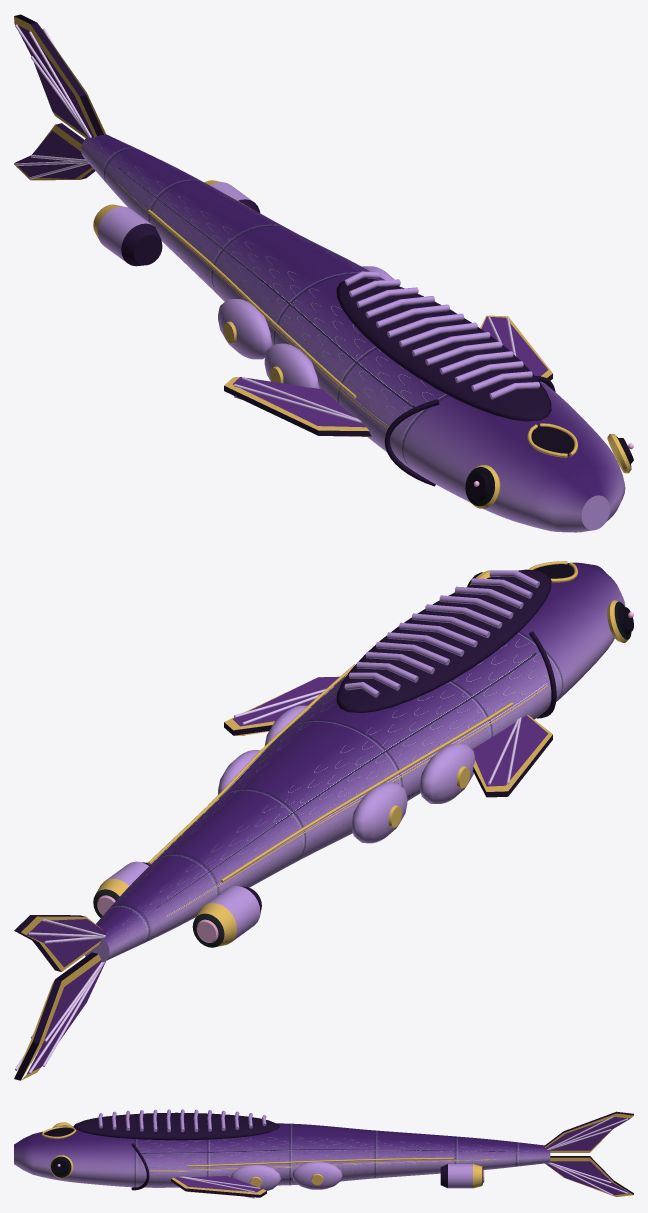
The picture shows the model from 3 angles, top to bottom: view 1: azimuth 30°, elevation 25°; view 2: azimuth 150°, elevation 25°; view 3: azimuth 270°, elevation 25°; orthographic projection. The views are drawn at different scales.
Parts seen in each view (by area): view 1: remora_hull; view 2: remora_hull; view 3: remora_hull.
Part boxes in pixels (x1,y1,x2,y2): remora_hull: (14,14,633,532); remora_hull: (14,561,633,1080); remora_hull: (14,1109,633,1198).
Size of the model in its own units: 10.78 by 5.66 by 38.
Materials: 1 (1 with a texture image).
